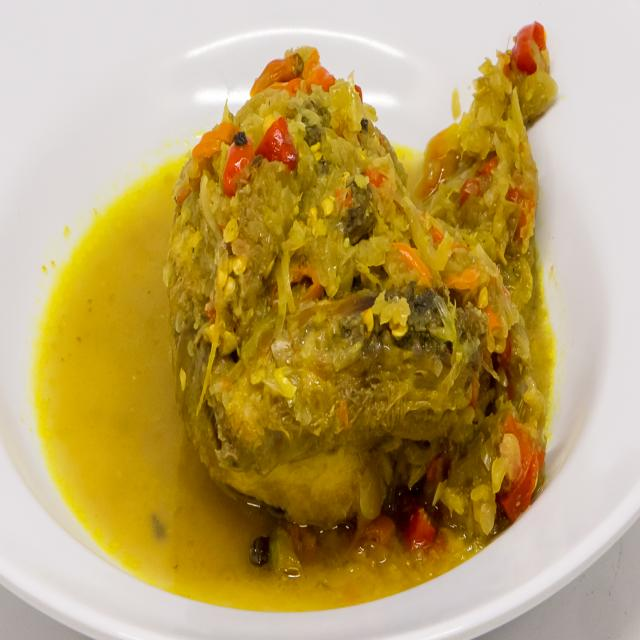Ayam-Betutu: (154, 19, 569, 562)
